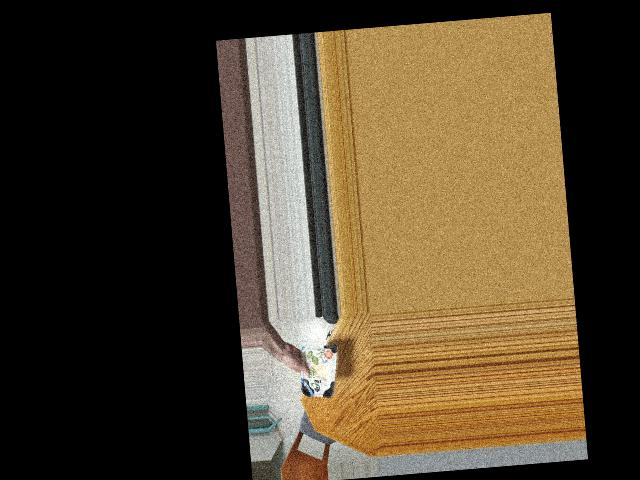cheese: (292, 343, 340, 399)
